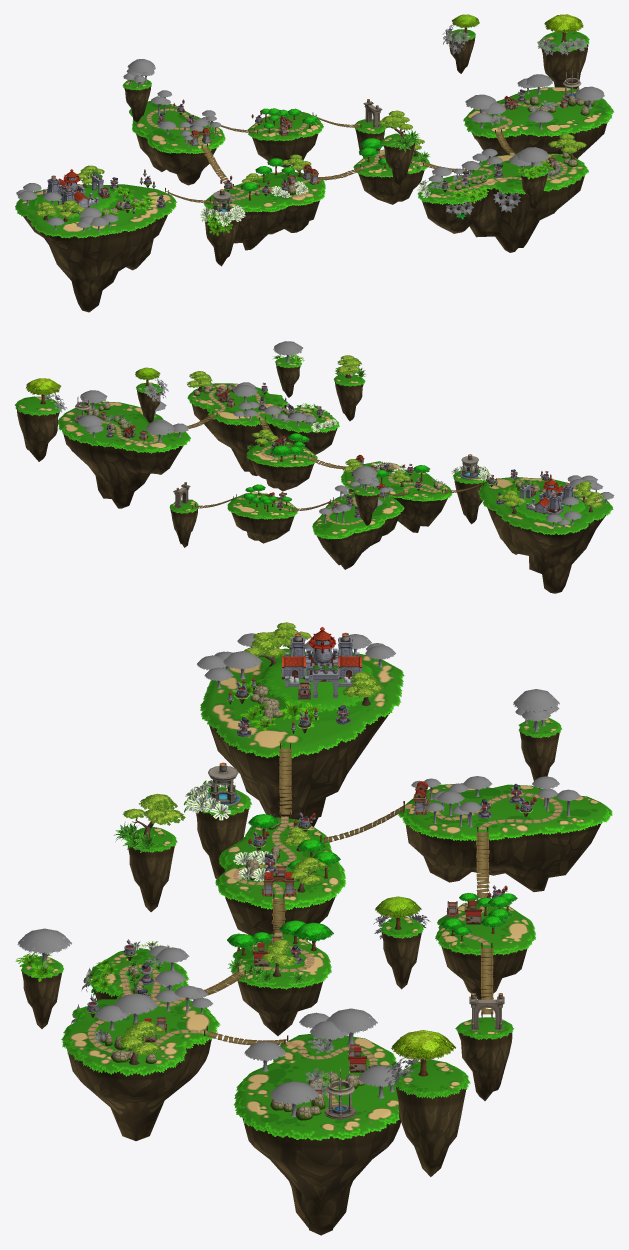
File: 00_SampleScene.FBX
3 renders of one model, top to bottom at view 1: azimuth 30°, elevation 25°; view 2: azimuth 150°, elevation 25°; view 3: azimuth 270°, elevation 25°, orthographic. The views are drawn at different scales.
Parts seen in each view (by area): view 1: Object221, Object224, Object223, Object226, Object234, Object255, Object270, Object233, Object225, Object222, Object254, Line473 (+16 smaller); view 2: Object221, Object223, Object224, Object234, Object226, Object270, Object233, Object225, Object222, Object255, Object254, Object238 (+14 smaller); view 3: Object221, Object223, Object224, Object234, Object226, Object255, Object270, Object222, Object225, Object233, Object254, Object238 (+21 smaller).
Boxes of the visible parts, bbox=[...] form: Object221: bbox=[15, 184, 176, 312]; Object224: bbox=[417, 153, 588, 252]; Object223: bbox=[463, 87, 614, 158]; Object226: bbox=[203, 172, 325, 250]; Object234: bbox=[129, 101, 225, 185]; Object255: bbox=[151, 74, 604, 146]; Object270: bbox=[34, 110, 586, 221]; Object233: bbox=[247, 111, 323, 167]; Object225: bbox=[353, 149, 429, 204]; Object222: bbox=[538, 31, 589, 88]; Object254: bbox=[240, 108, 390, 200]; Line473: bbox=[100, 161, 552, 235]; Object221: bbox=[478, 477, 613, 593]; Object223: bbox=[58, 401, 190, 508]; Object224: bbox=[187, 383, 339, 475]; Object234: bbox=[312, 492, 404, 569]; Object226: bbox=[340, 461, 452, 532]; Object270: bbox=[187, 355, 604, 513]; Object233: bbox=[227, 492, 297, 543]; Object225: bbox=[247, 440, 317, 491]; Object222: bbox=[14, 396, 62, 461]; Object255: bbox=[78, 390, 393, 523]; Object254: bbox=[243, 433, 430, 511]; Object238: bbox=[233, 341, 302, 420]; Object221: bbox=[200, 648, 404, 826]; Object223: bbox=[234, 1033, 400, 1235]; Object224: bbox=[61, 948, 220, 1140]; Object234: bbox=[398, 783, 612, 891]; Object226: bbox=[215, 817, 345, 935]; Object255: bbox=[244, 776, 580, 1117]; Object270: bbox=[118, 622, 383, 1064]; Object222: bbox=[394, 1059, 470, 1176]; Object225: bbox=[230, 933, 331, 1035]; Object233: bbox=[435, 900, 535, 999]; Object254: bbox=[227, 814, 517, 955]; Object238: bbox=[17, 928, 212, 1030].
Size of the model in its own units: 3793 by 1103 by 2051.
